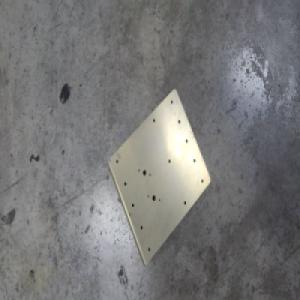MetalSheet: (106, 87, 211, 268)
